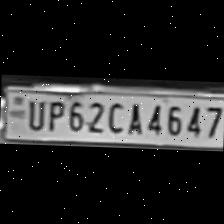2: (84, 95, 104, 132)
4: (182, 102, 202, 136), (144, 98, 162, 134)
6: (162, 100, 182, 136), (64, 96, 82, 132)
7: (201, 102, 223, 137)
A: (122, 98, 144, 135)
C: (104, 97, 124, 133)
P: (44, 96, 64, 132)
U: (22, 96, 46, 130)
